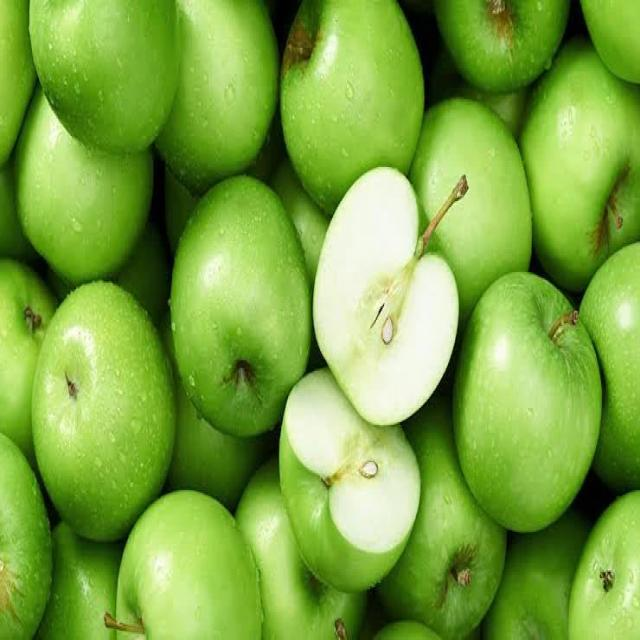Green Apple: (453, 271, 604, 534), (30, 280, 177, 543), (168, 175, 313, 438), (278, 367, 422, 593), (279, 1, 426, 216), (520, 38, 639, 292), (14, 85, 154, 285), (410, 96, 533, 317), (106, 489, 265, 640), (28, 1, 182, 156), (155, 1, 280, 191), (579, 240, 640, 490), (435, 1, 570, 93), (1, 432, 54, 640), (567, 490, 639, 640), (580, 1, 640, 86)
Red Apple: (1, 1, 640, 640)
